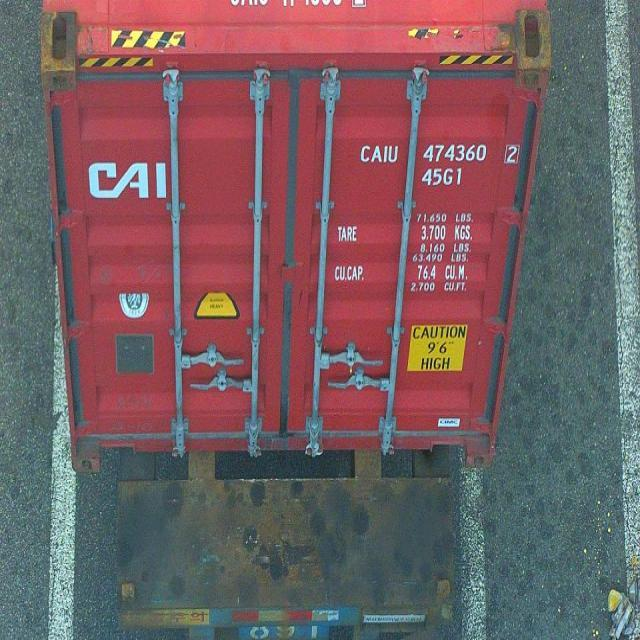ISO: (422, 167, 462, 186)
container_number: (362, 138, 517, 164)
